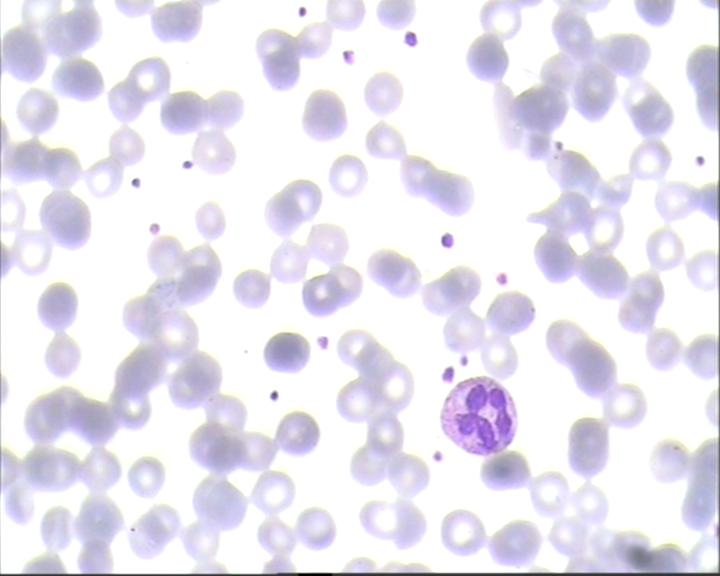neut: (437, 370, 522, 459)
